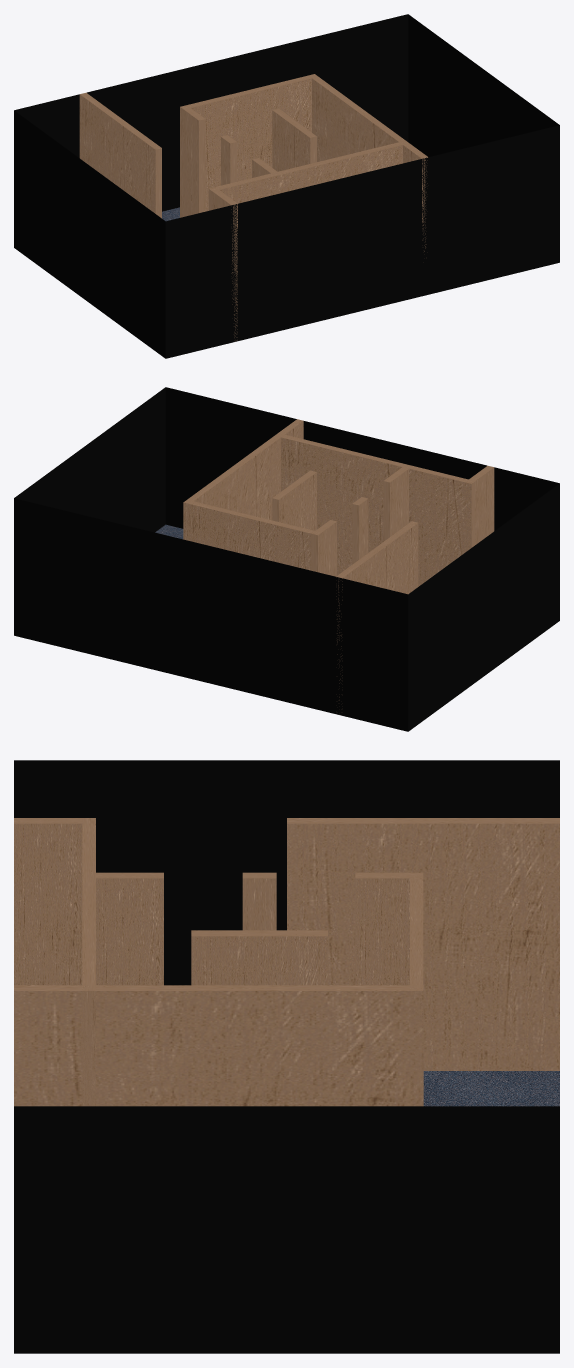
The model's file is TDC_BeyondTheSky.glb.
3 views of the same model, one above another, from view 1: azimuth 30°, elevation 25°; view 2: azimuth 150°, elevation 25°; view 3: azimuth 270°, elevation 25° (orthographic). The views are drawn at different scales.
Parts seen in each view (by area): view 1: Plane.001, Plane.003, Plane.002, Plane.004, Cube.009, Cube.001, Cube.004, Cube.003, Cube.007, Cube.008, Cube.005, Cube.002; view 2: Plane.002, Plane.003, Plane.001, Cube.003, Plane.004, Cube.009, Cube.004, Cube.001, Cube.008, Cube.006, Cube.002, Cube.007 (+1 smaller); view 3: Plane.004, Cube.004, Plane.003, Cube.001, Cube.002, Cube.006, Cube.008, Cube.007, Plane, Cube.003, Cube.009, Cube.005.
Part boxes in pixels (box(x1,y1,x2,y2)): Plane.001: box(165, 125, 559, 358); Plane.003: box(14, 110, 165, 358); Plane.002: box(14, 14, 408, 211); Plane.004: box(408, 14, 559, 157); Cube.009: box(184, 74, 317, 211); Cube.001: box(79, 92, 161, 218); Cube.004: box(308, 75, 427, 251); Cube.003: box(208, 140, 408, 210); Cube.007: box(180, 106, 205, 217); Cube.008: box(272, 108, 316, 171); Cube.005: box(221, 135, 236, 185); Cube.002: box(212, 190, 237, 341); Plane.002: box(14, 498, 408, 731); Plane.003: box(408, 483, 559, 731); Plane.001: box(165, 387, 559, 530); Cube.003: box(274, 433, 475, 586); Plane.004: box(14, 387, 165, 532); Cube.009: box(183, 499, 316, 570); Cube.004: box(187, 419, 303, 540); Cube.001: box(336, 521, 418, 700); Cube.008: box(272, 470, 316, 530); Cube.006: box(383, 467, 408, 541); Cube.002: box(469, 465, 494, 544); Cube.007: box(311, 520, 336, 576); Plane.004: box(14, 1106, 559, 1353); Cube.004: box(14, 985, 423, 1106); Plane.003: box(14, 760, 559, 985); Cube.001: box(287, 818, 559, 1070); Cube.002: box(14, 818, 82, 985); Cube.006: box(96, 872, 163, 985); Cube.008: box(191, 930, 327, 985); Cube.007: box(355, 872, 423, 985); Plane: box(423, 1071, 559, 1106); Cube.003: box(82, 818, 95, 1106); Cube.009: box(410, 875, 423, 1105); Cube.005: box(242, 872, 276, 930).
Bounding box in the file's own units: 12 × 4.03 × 8.
4 materials, 3 textured.
